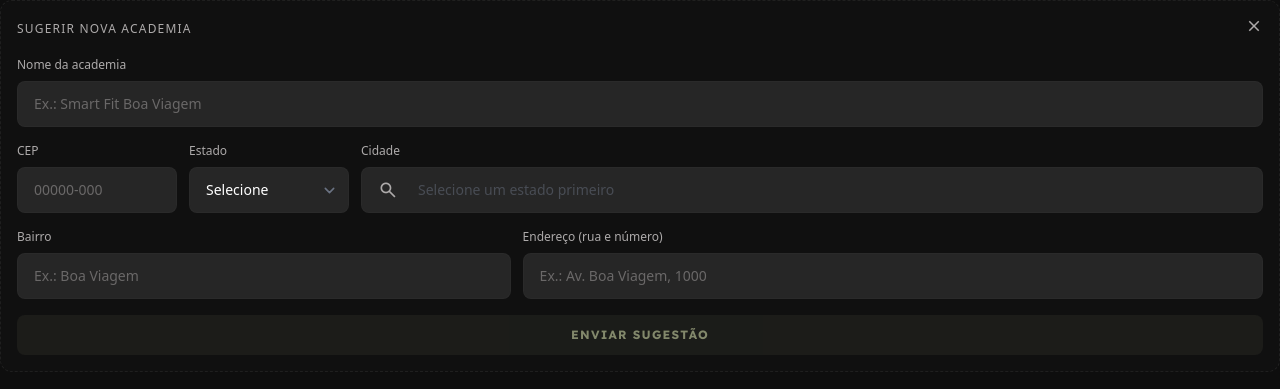
Test: GymSuggestForm › habilita envio quando a cidade foi digitada sem selecionar sugestão
The image size is (1280, 389).
Type "Academia Nova" into the field with placeholder "Ex.: Smart Fit Boa Viagem" at (640, 104), box [17,81,1263,127]
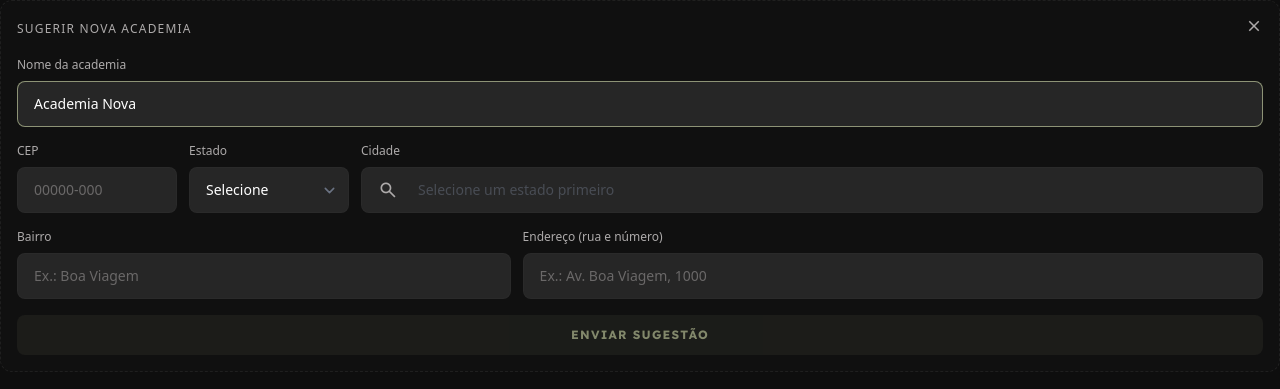
Select "São Paulo (SP)" in the dropdown at (269, 190), box [190,168,348,212]
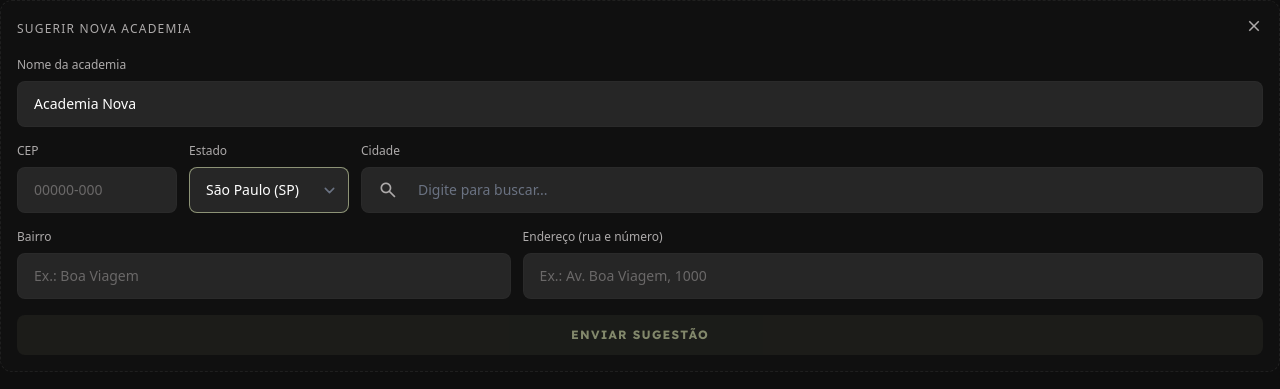
Type "São Paulo" into the field with placeholder "Digite para buscar..." at (826, 190), box [406,168,1246,212]
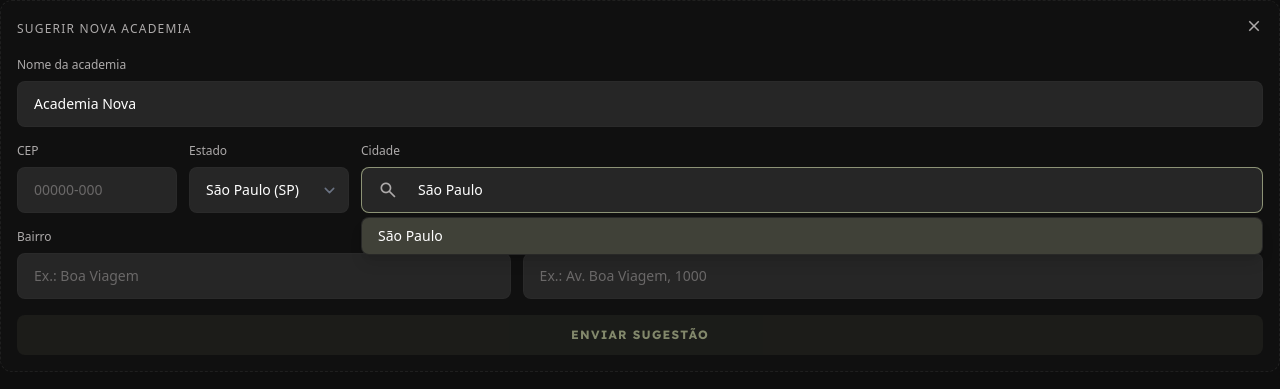
Type "Bela Vista" into the field labelled "Bairro" at (264, 276), box [17,253,511,299]
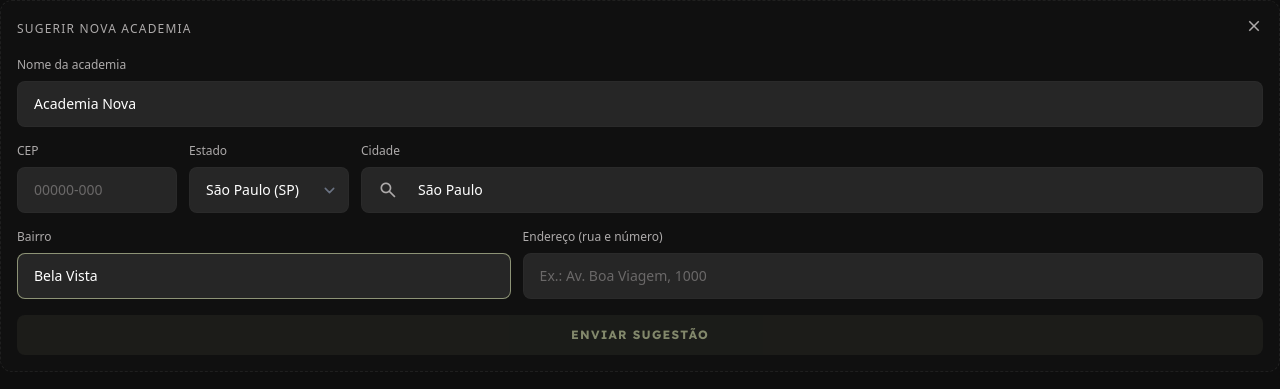
Type "Av. Paulista, 1000" into the field labelled "Endereço (rua e número)" at (893, 276), box [523,253,1263,299]
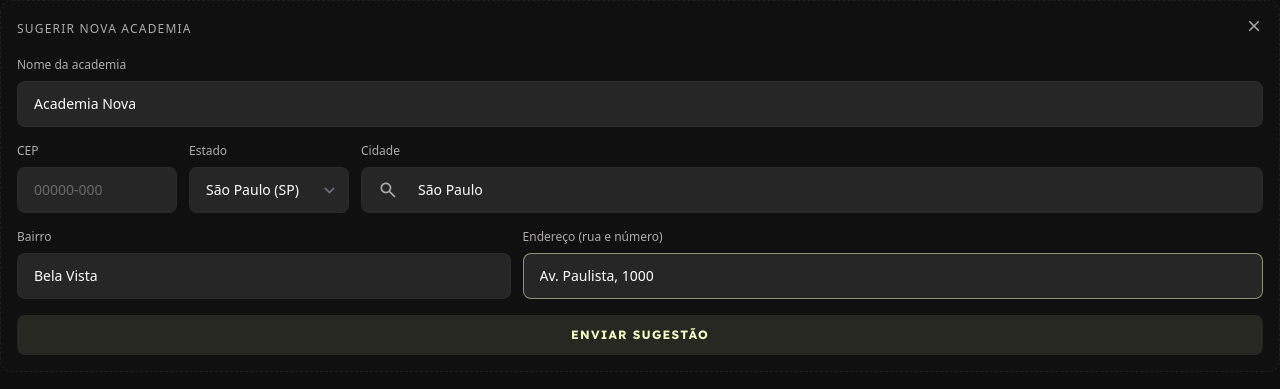
Expected: the button "ENVIAR SUGESTÃO" is enabled, [17,315,1263,355]
